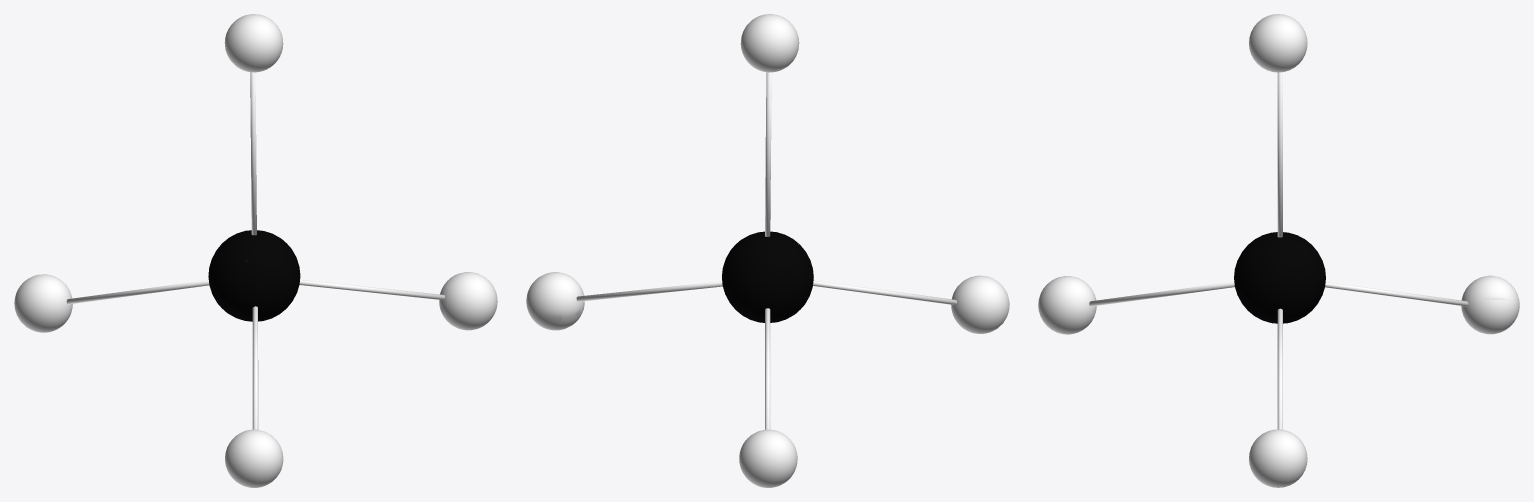
The model's file is metano.obj.
The picture shows the model from 3 angles, left to right: view 1: azimuth 30°, elevation 25°; view 2: azimuth 150°, elevation 25°; view 3: azimuth 270°, elevation 25°; orthographic projection.
Visible parts, largest first — view 1: Sphere; view 2: Sphere; view 3: Sphere.
Boxes of the visible parts, box(x1,y1,x2,y2) form: Sphere: box(14, 14, 497, 487); Sphere: box(526, 14, 1009, 487); Sphere: box(1038, 14, 1519, 487).
Size of the model in its own units: 1.46 by 1.38 by 1.64.
